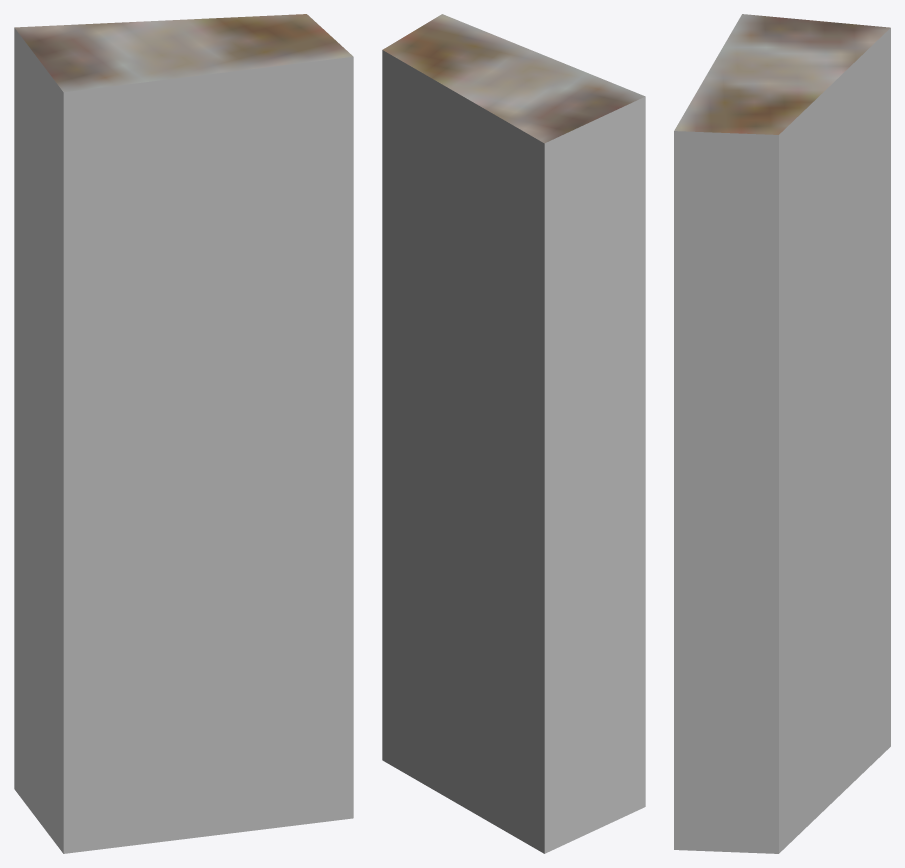
File: DEBW_0010007THvJ.gltf
3 renders of one model, left to right at view 1: azimuth 30°, elevation 25°; view 2: azimuth 150°, elevation 25°; view 3: azimuth 270°, elevation 25°, orthographic. The views are drawn at different scales.
Visible parts, largest first — view 1: Z_UP; view 2: Z_UP; view 3: Z_UP.
Part boxes in pixels (x1,y1,x2,y2): Z_UP: (14, 14, 353, 853); Z_UP: (382, 14, 645, 853); Z_UP: (674, 14, 890, 853).
Size of the model in its own units: 3.91 by 10.83 by 2.96.
Materials: 2 (1 with a texture image).
